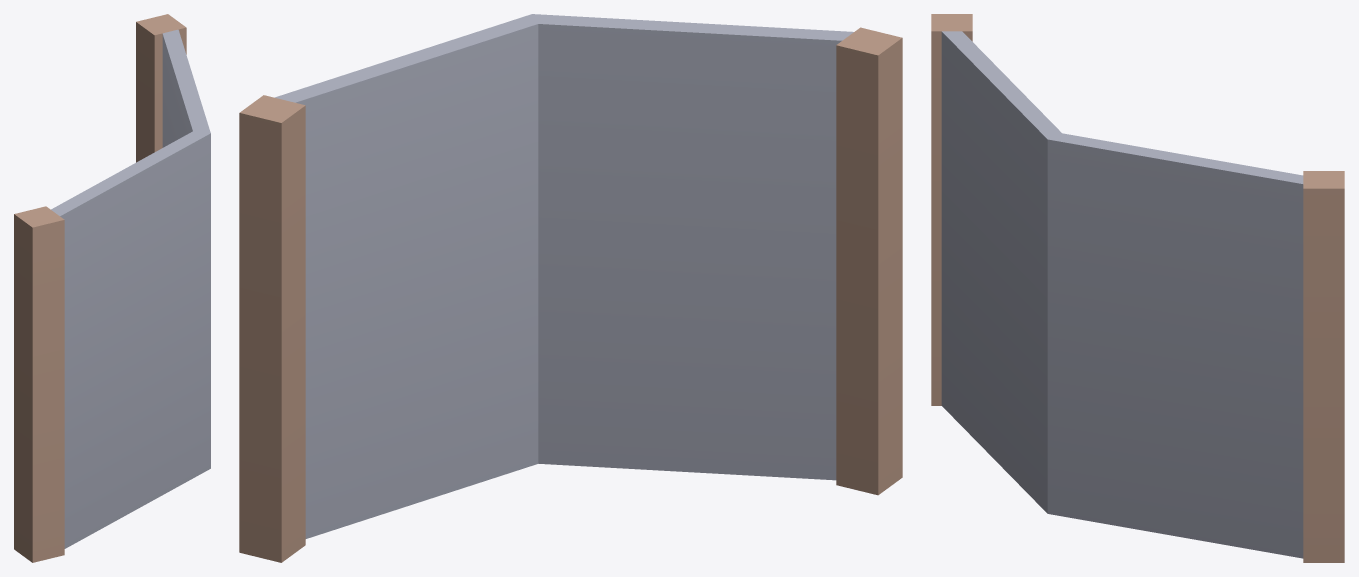
File: wall-corner-edge.glb
3 views of the same model, side by side, from view 1: azimuth 30°, elevation 25°; view 2: azimuth 150°, elevation 25°; view 3: azimuth 270°, elevation 25° (orthographic). The views are drawn at different scales.
Visible parts, largest first — view 1: wall-corner-edge; view 2: wall-corner-edge; view 3: wall-corner-edge.
Boxes of the visible parts, bbox=[...] form: wall-corner-edge: bbox=[14, 14, 210, 562]; wall-corner-edge: bbox=[239, 14, 902, 562]; wall-corner-edge: bbox=[931, 14, 1344, 562].
Bounding box in the file's own units: 1 × 1 × 1.
